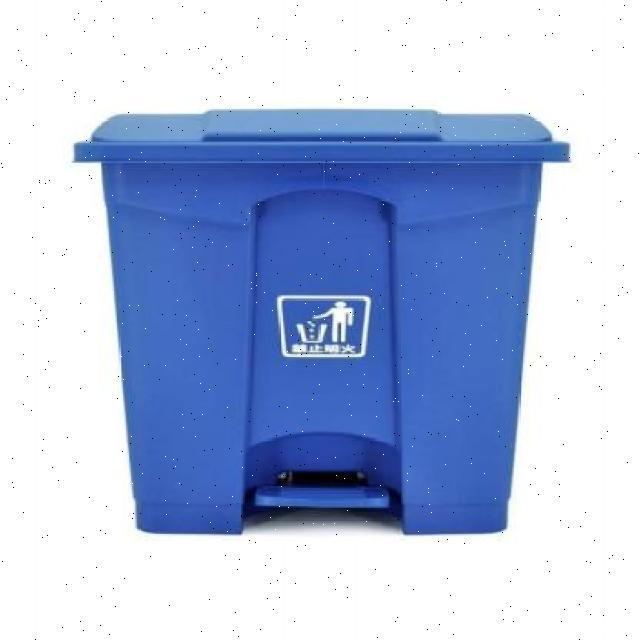garbage container: (68, 96, 605, 558)
